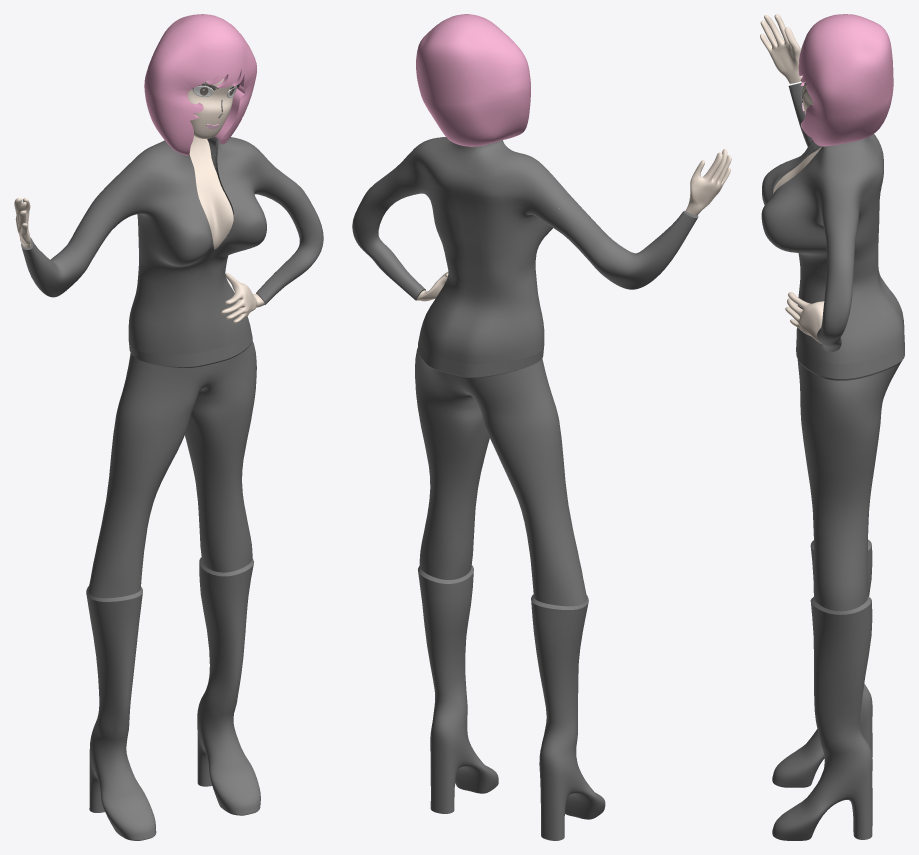
3 views of the same model, side by side, from view 1: azimuth 30°, elevation 25°; view 2: azimuth 150°, elevation 25°; view 3: azimuth 270°, elevation 25° (orthographic). The views are drawn at different scales.
Parts seen in each view (by area): view 1: 031_mFujiko; view 2: 031_mFujiko; view 3: 031_mFujiko.
Part boxes in pixels (x1=…): 031_mFujiko: x1=14, y1=14, x2=323, y2=840; 031_mFujiko: x1=352, y1=14, x2=731, y2=840; 031_mFujiko: x1=760, y1=14, x2=904, y2=840.
Size of the model in its own units: 0.0866 by 0.1912 by 0.031.
